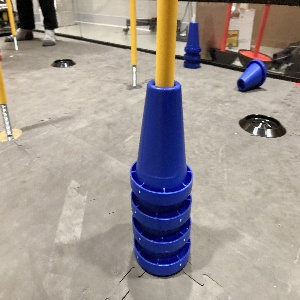Blue_4: (131, 80, 191, 274)
